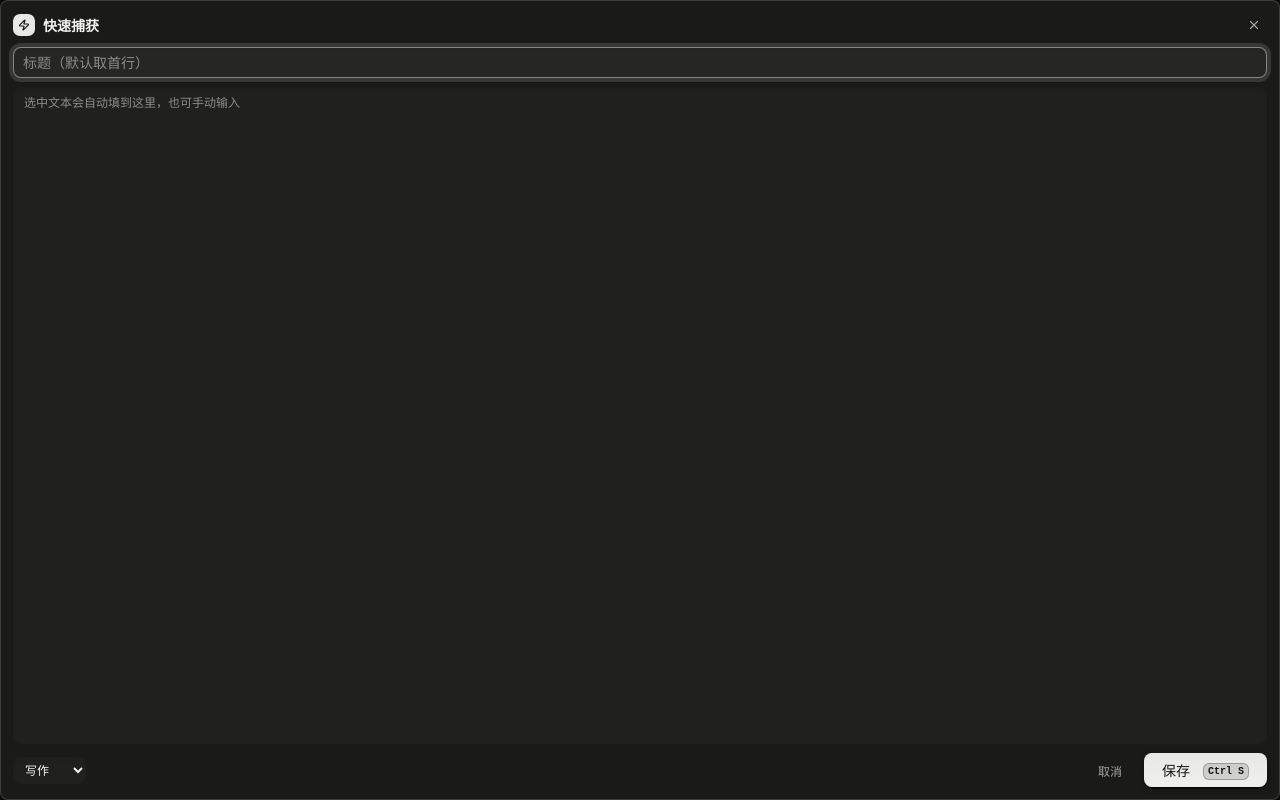
CaptureView：快速捕获 › C2：保存失败时错误独立成行可见且不关窗
Type "正文" into the text box with class "cv-content" at [640, 416], box [13,87,1267,744]
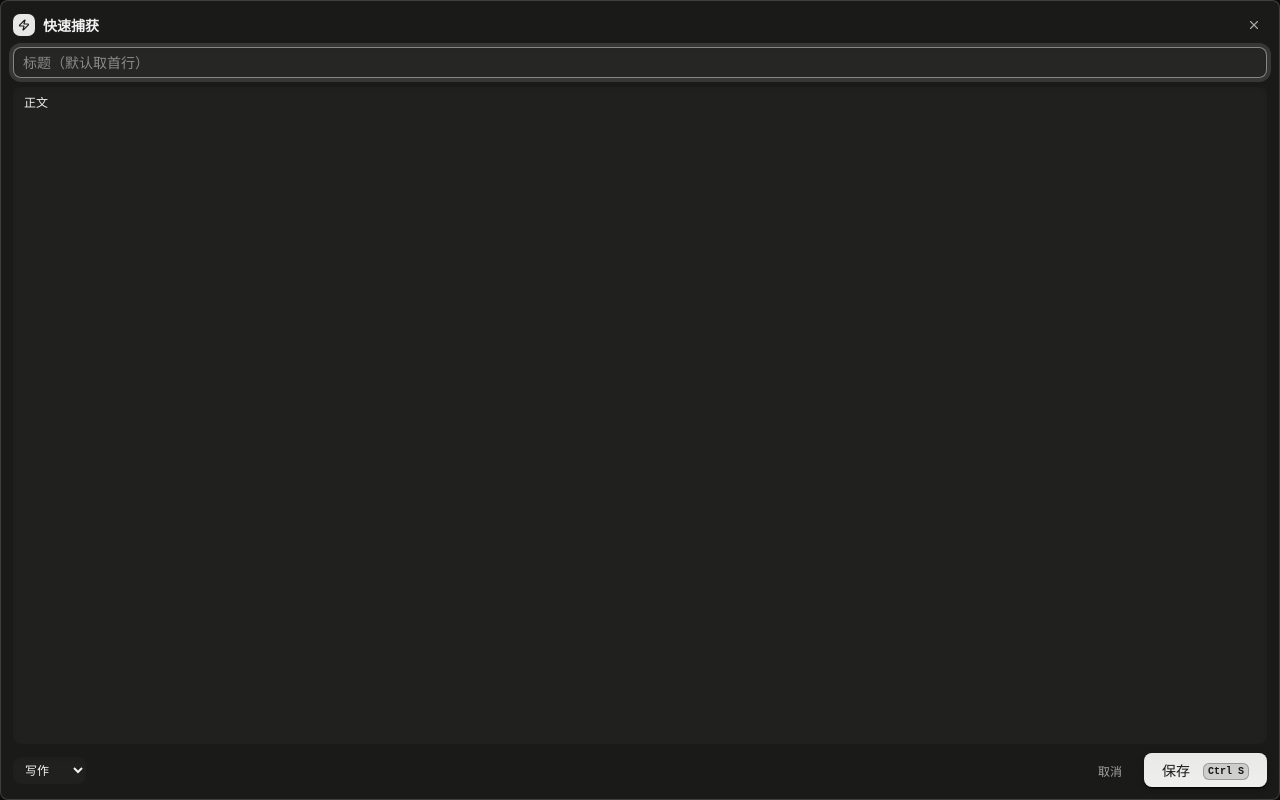
Click the button "保存 Ctrl S" at [1206, 770], box [1144,753,1267,787]
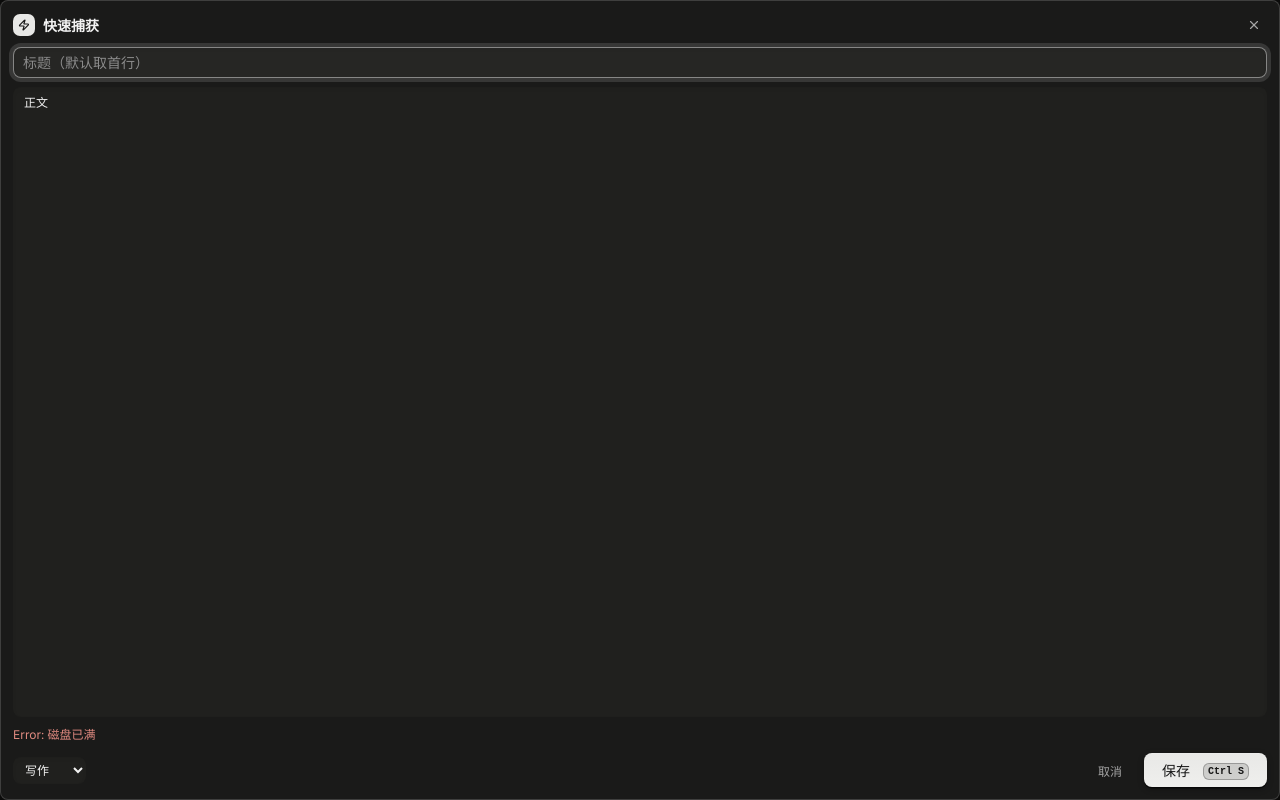
Result: the message with class "cv-err-row" shows "磁盘已满" at [13,727,95,742]
